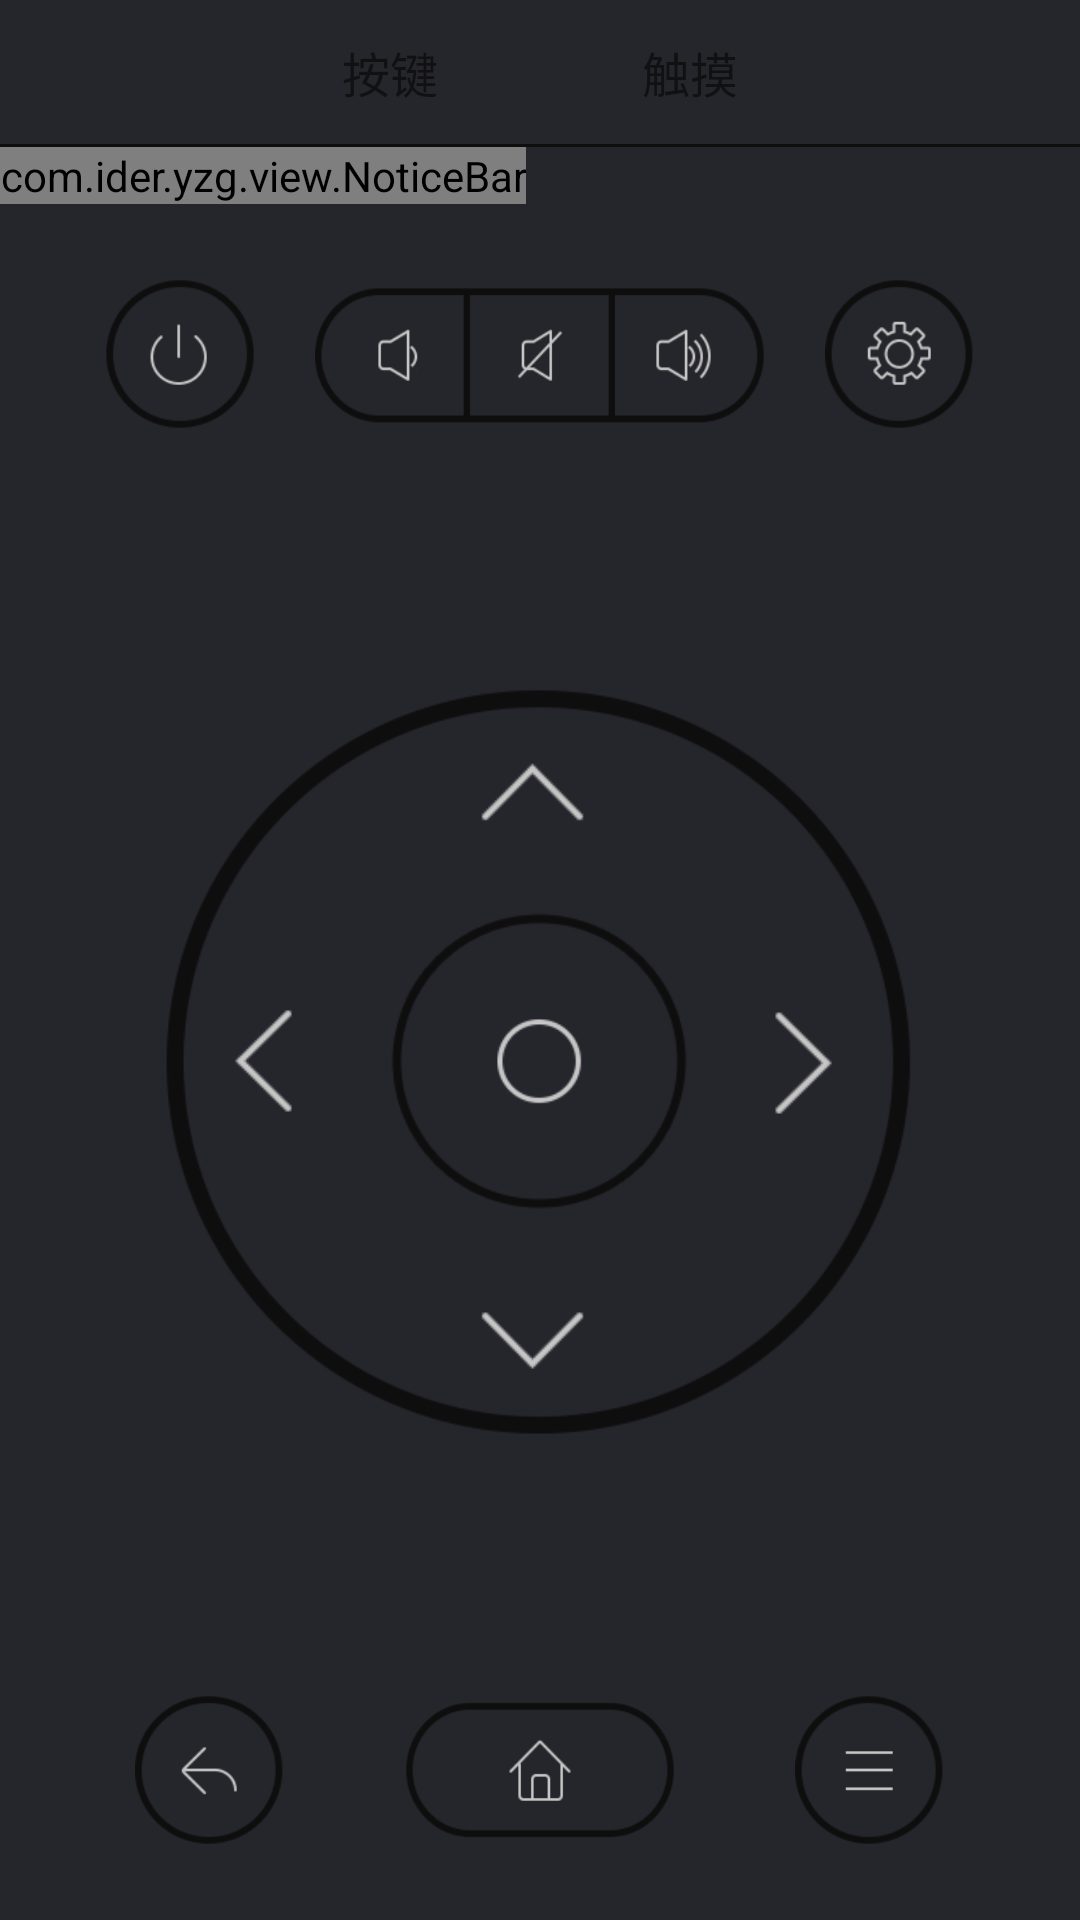

Locate icon controls on the screen. Image size 1080w x 1920h, boxes as (x1, y1, x2, y2).
back: (135, 1697, 282, 1843)
center: (394, 916, 685, 1207)
down: (481, 1312, 584, 1369)
home: (407, 1703, 673, 1837)
left: (235, 1010, 292, 1112)
menu: (795, 1697, 942, 1843)
poweroff: (107, 281, 253, 427)
right: (775, 1012, 832, 1114)
setting: (825, 281, 972, 427)
volume down: (315, 289, 465, 422)
volume mute: (465, 289, 615, 422)
volume up: (615, 289, 763, 422)
